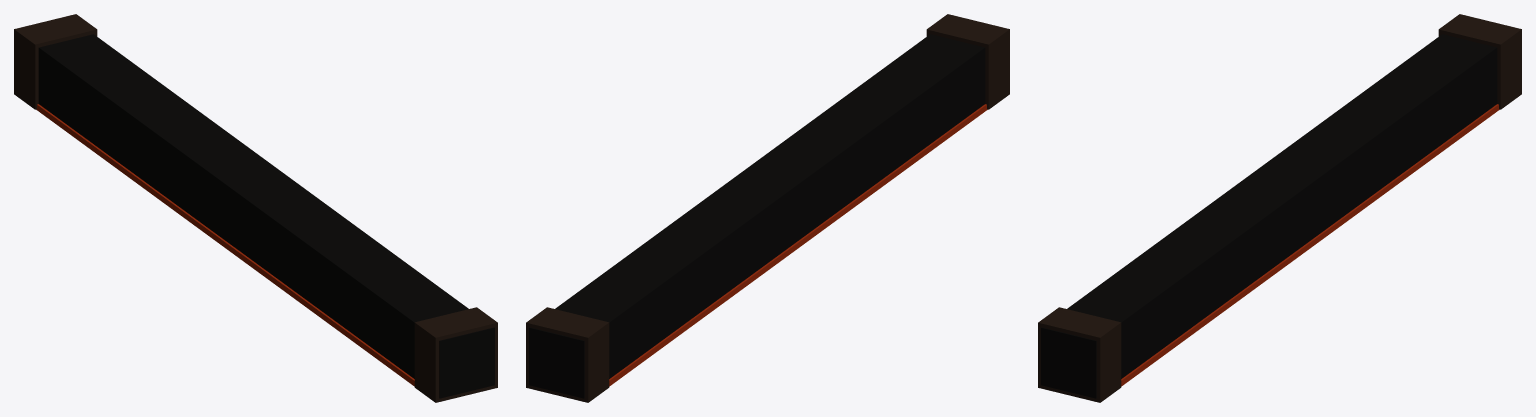
Rendered from SM_Ceiling_Beam_4m_Hideout.glb.
3 renders of one model, left to right at view 1: azimuth 30°, elevation 25°; view 2: azimuth 150°, elevation 25°; view 3: azimuth 330°, elevation 25°, orthographic.
Parts seen in each view (by area): view 1: SM_Ceiling_Beam_4m_Hideout-col; view 2: SM_Ceiling_Beam_4m_Hideout-col; view 3: SM_Ceiling_Beam_4m_Hideout-col.
Part boxes in pixels (x1=…): SM_Ceiling_Beam_4m_Hideout-col: x1=14, y1=14, x2=497, y2=402; SM_Ceiling_Beam_4m_Hideout-col: x1=526, y1=14, x2=1009, y2=402; SM_Ceiling_Beam_4m_Hideout-col: x1=1038, y1=14, x2=1521, y2=402.
Size of the model in its own units: 0.34 by 0.345 by 4.
